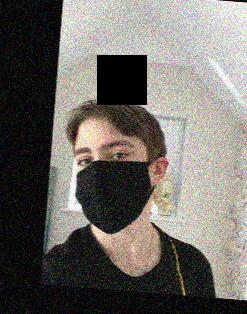with_mask: (70, 128, 154, 235)
